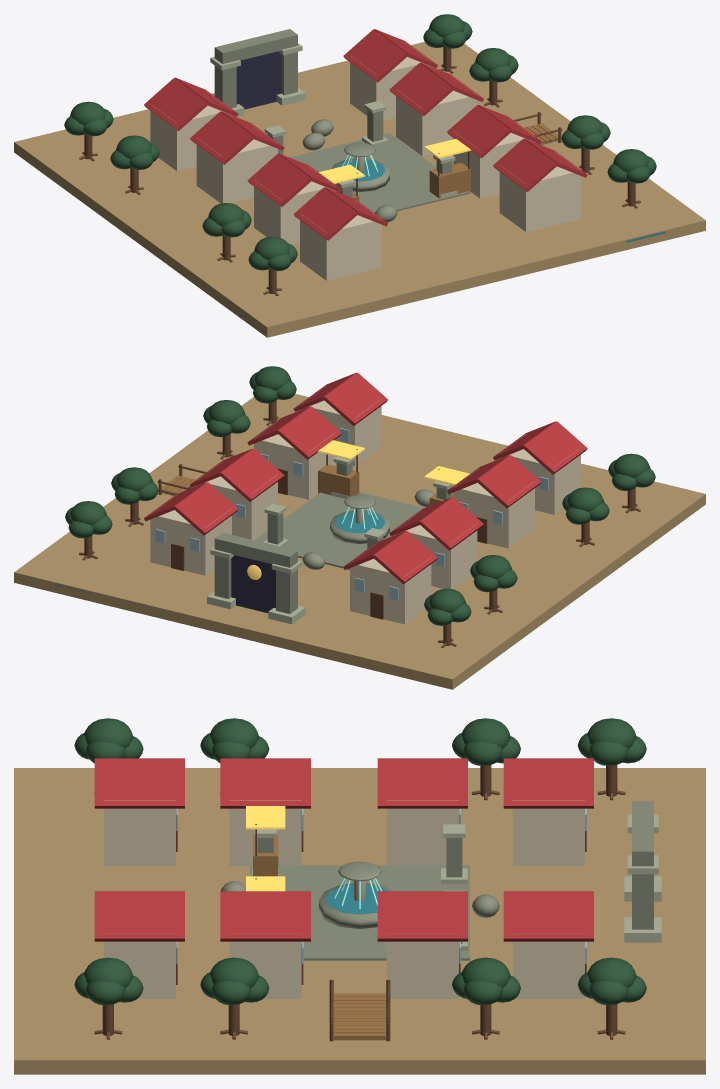
The model's file is lumenfall_corrupted.glb.
3 renders of one model, top to bottom at view 1: azimuth 30°, elevation 25°; view 2: azimuth 150°, elevation 25°; view 3: azimuth 270°, elevation 25°, orthographic. The views are drawn at different scales.
Visible parts, largest first — view 1: ground, walls (×8), roof (×16), canopy_0 (×8), square, door, lintel, column (×2), canopy (×2), counter, basin; view 2: ground, walls (×8), roof (×16), canopy_0 (×8), square, door, column (×2), lintel, canopy (×2), counter, water, basin; view 3: ground, roof (×8), walls (×8), canopy_0 (×8), square, canopy_2 (×8), column (×2), canopy (×2), lintel, basin, water, counter (+2 smaller).
Part boxes in pixels (<box>): ground: <box>14,42,705,337</box>; walls (×8): <box>150,42,580,280</box>; roof (×16): <box>144,29,587,240</box>; canopy_0 (×8): <box>70,14,648,259</box>; square: <box>289,133,469,213</box>; door: <box>236,51,281,109</box>; lintel: <box>214,29,297,63</box>; column (×2): <box>214,52,297,108</box>; canopy (×2): <box>319,139,471,183</box>; counter: <box>429,162,470,198</box>; basin: <box>331,158,389,191</box>; ground: <box>14,394,705,689</box>; walls (×8): <box>150,387,580,624</box>; roof (×16): <box>144,372,587,584</box>; canopy_0 (×8): <box>70,366,649,612</box>; square: <box>255,492,423,569</box>; door: <box>231,555,275,612</box>; column (×2): <box>214,555,297,613</box>; lintel: <box>214,532,297,567</box>; canopy (×2): <box>318,440,469,485</box>; counter: <box>318,464,359,496</box>; water: <box>334,512,385,533</box>; basin: <box>330,510,389,543</box>; ground: <box>14,768,705,1074</box>; roof (×8): <box>94,759,593,941</box>; walls (×8): <box>103,800,584,998</box>; canopy_0 (×8): <box>84,718,636,987</box>; square: <box>250,865,469,960</box>; canopy_2 (×8): <box>86,741,628,1005</box>; column (×2): <box>446,838,653,929</box>; canopy (×2): <box>246,806,285,891</box>; lintel: <box>632,801,653,866</box>; basin: <box>319,883,394,928</box>; water: <box>325,885,388,914</box>; counter: <box>253,835,278,876</box>.
Bounding box in the file's own units: 22 × 3.62 × 22.
